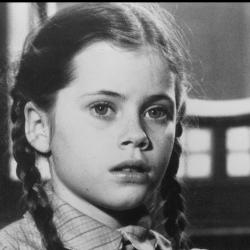face: (4, 2, 194, 236)
